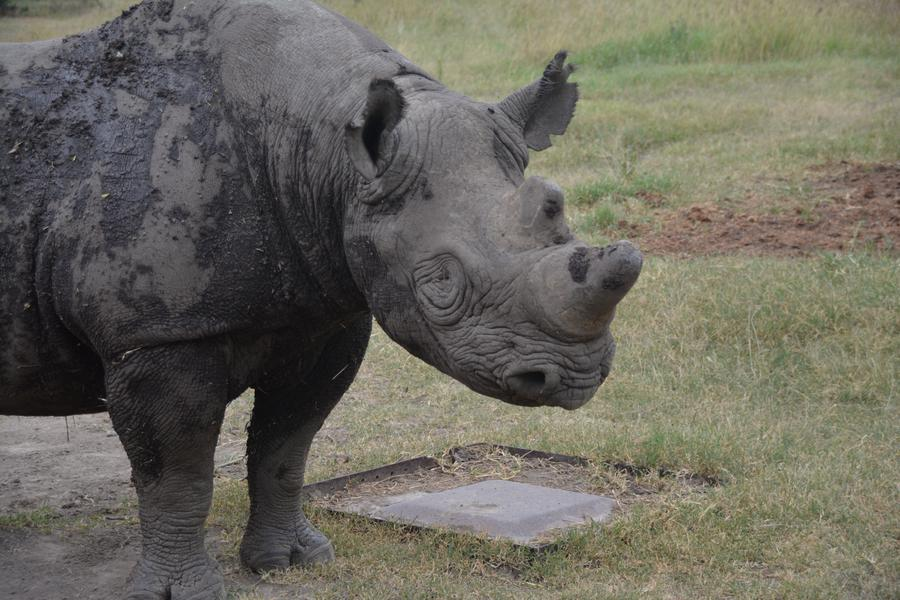rhino: (23, 24, 538, 570)
